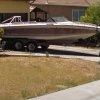Boat: (0, 7, 99, 58)
